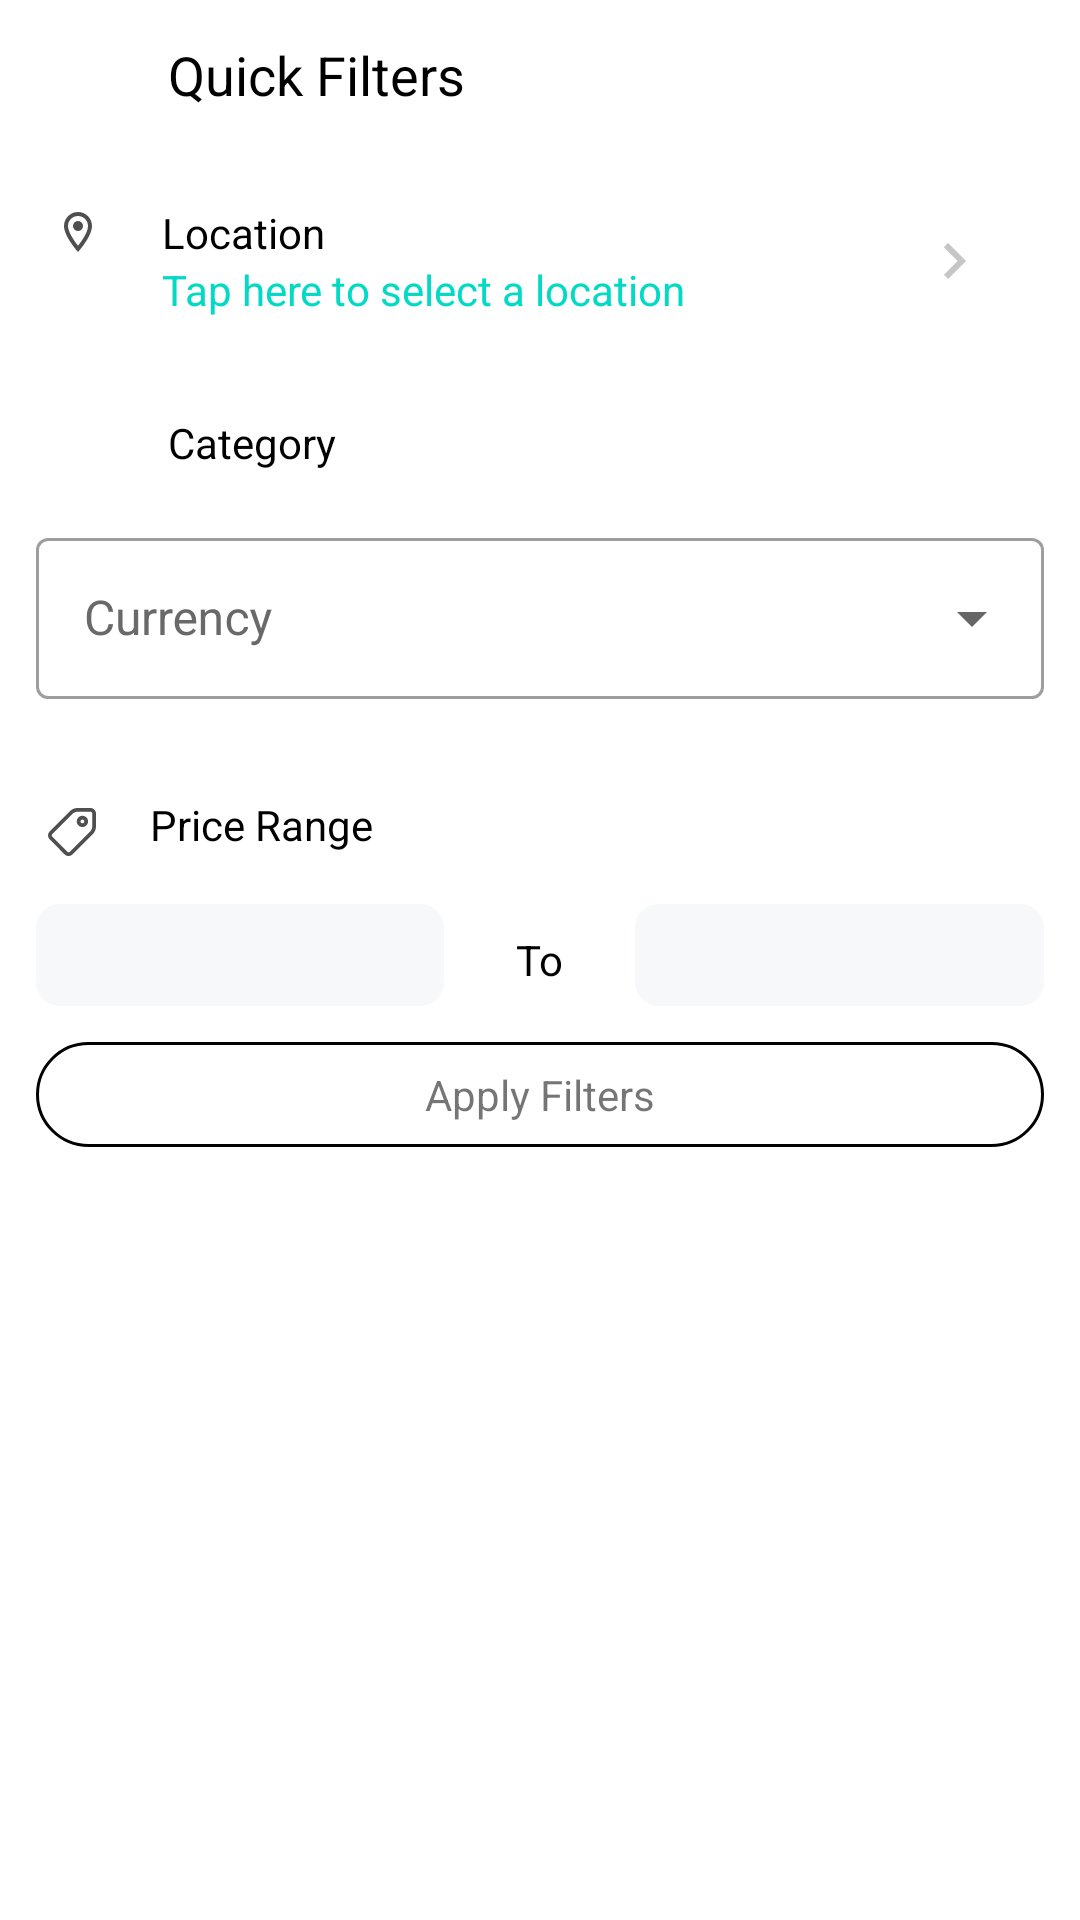

Named icons in this screenshot (1080 × 1920) and their bounding boxes, Rect(x1, y1, x2, y2):
keyboard arrow right: Rect(944, 243, 966, 279)
price tag: Rect(48, 808, 96, 856)
